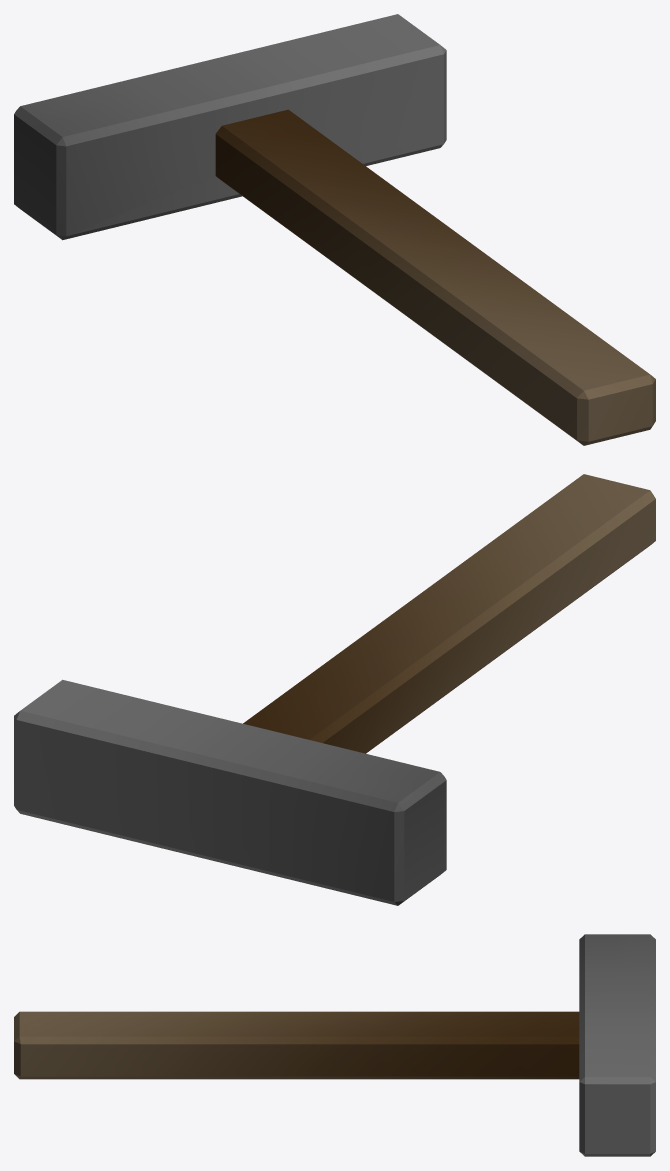
The model's file is placeholder_hammer.fbx.
The picture shows the model from 3 angles, top to bottom: view 1: azimuth 30°, elevation 25°; view 2: azimuth 150°, elevation 25°; view 3: azimuth 270°, elevation 25°; orthographic projection. The views are drawn at different scales.
Visible parts, largest first — view 1: Cube; view 2: Cube; view 3: Cube.
Boxes of the visible parts, left/top/right/bottom form: Cube: left=14, top=14, right=655, bottom=445; Cube: left=14, top=474, right=655, bottom=905; Cube: left=14, top=934, right=655, bottom=1156.
Size of the model in its own units: 14.8 by 27.26 by 3.73.
